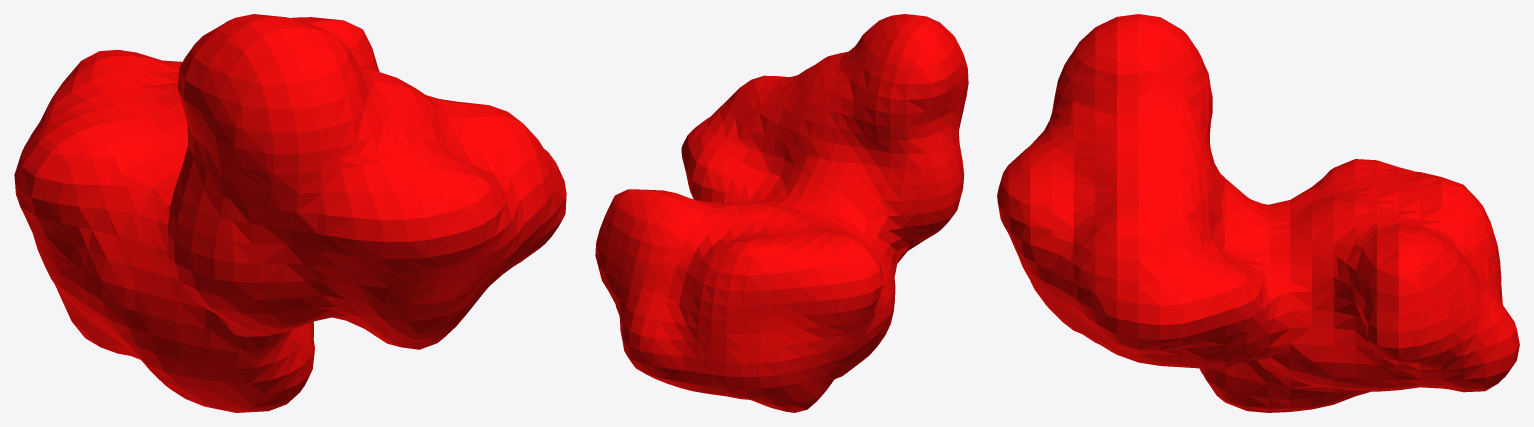
File: rplK_coarse.dae
3 renders of one model, left to right at view 1: azimuth 30°, elevation 25°; view 2: azimuth 150°, elevation 25°; view 3: azimuth 270°, elevation 25°, orthographic. The views are drawn at different scales.
Visible parts, largest first — view 1: rplK; view 2: rplK; view 3: rplK.
Part boxes in pixels (x1=…): rplK: x1=14, y1=14, x2=566, y2=412; rplK: x1=595, y1=14, x2=968, y2=412; rplK: x1=997, y1=14, x2=1519, y2=412.
Bounding box in the file's own units: 39.97 × 43.66 × 56.49.
